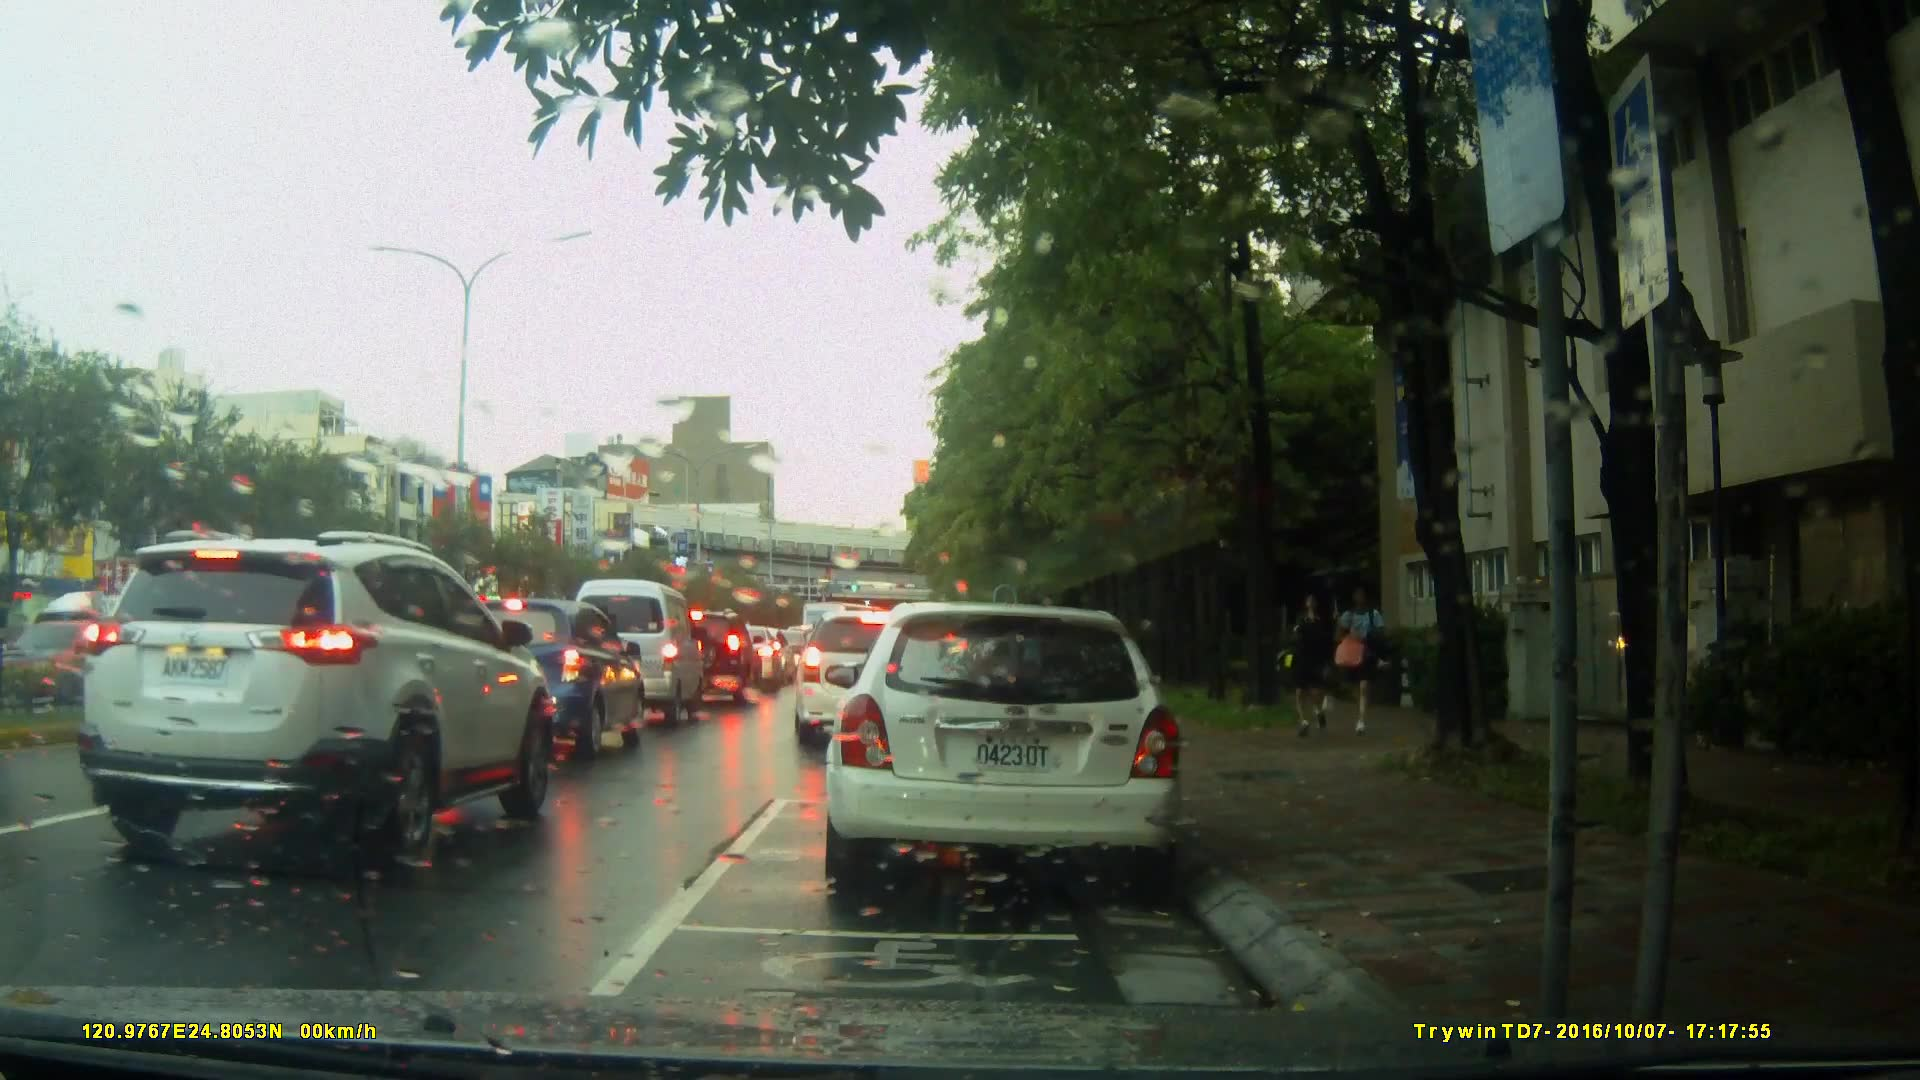pedestrian: (1328, 576, 1391, 743), (1282, 587, 1347, 739)
vehicle: (73, 527, 546, 868), (815, 593, 1204, 909), (434, 595, 648, 763), (554, 575, 702, 735), (791, 606, 946, 747), (654, 608, 764, 706)
